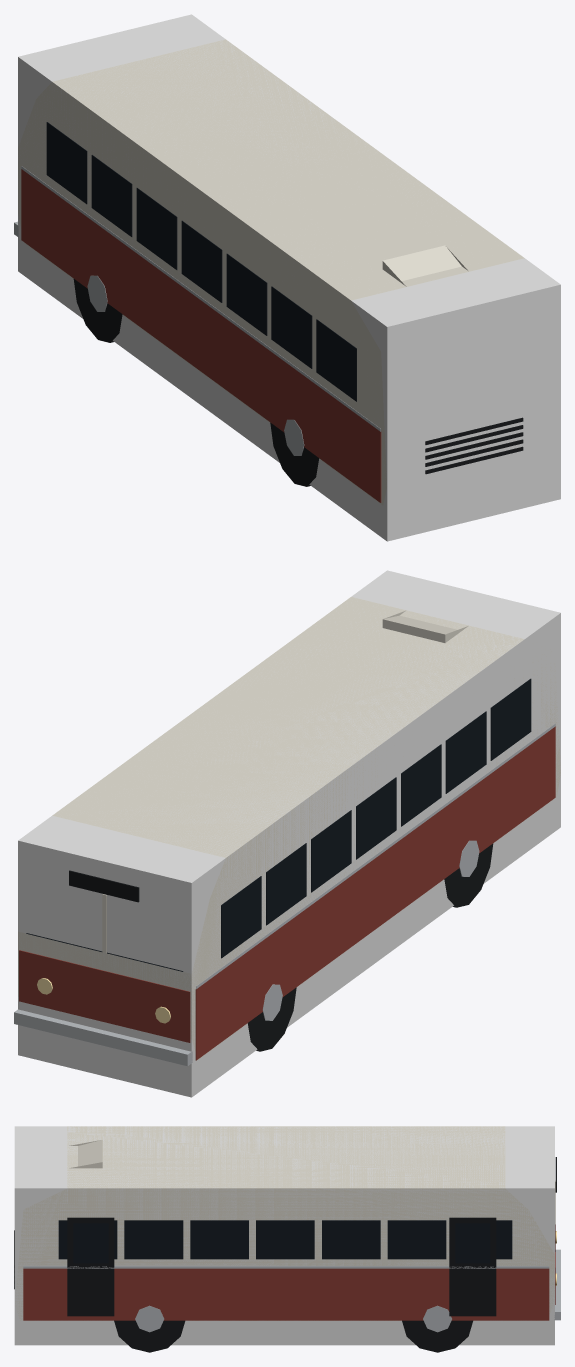
File: bus.glb
The picture shows the model from 3 angles, top to bottom: view 1: azimuth 30°, elevation 25°; view 2: azimuth 150°, elevation 25°; view 3: azimuth 270°, elevation 25°; orthographic projection. The views are drawn at different scales.
Parts seen in each view (by area): view 1: 01_#e0dcd0_r320, solid, 02_paint0_noshadow_r320, 04_#1a2026_noshadow_r320, 00_#1e2022_noshadow_r320, 03_#b8bcc0_noshadow_r110; view 2: solid, 01_#e0dcd0_r320, 02_paint0_noshadow_r320, 04_#1a2026_noshadow_r320, 03_#b8bcc0_noshadow_r110, 00_#1e2022_noshadow_r320; view 3: solid, 01_#e0dcd0_r320, 02_paint0_noshadow_r320, 04_#1a2026_noshadow_r320, 00_#1e2022_noshadow_r320, 03_#b8bcc0_noshadow_r110.
Boxes of the visible parts, x1,y1,x2,y2 form: 01_#e0dcd0_r320: (18,39,524,505); solid: (18,14,560,541); 02_paint0_noshadow_r320: (21,169,381,502); 04_#1a2026_noshadow_r320: (46,122,356,401); 00_#1e2022_noshadow_r320: (73,279,523,486); 03_#b8bcc0_noshadow_r110: (14,166,380,455); solid: (18,570,560,1097); 01_#e0dcd0_r320: (18,597,560,1059); 02_paint0_noshadow_r320: (19,726,555,1060); 04_#1a2026_noshadow_r320: (26,678,531,971); 03_#b8bcc0_noshadow_r110: (14,723,555,1066); 00_#1e2022_noshadow_r320: (69,843,493,1051); solid: (14,1126,554,1345); 01_#e0dcd0_r320: (15,1126,555,1321); 02_paint0_noshadow_r320: (23,1225,555,1320); 04_#1a2026_noshadow_r320: (58,1220,555,1263); 00_#1e2022_noshadow_r320: (14,1157,556,1352); 03_#b8bcc0_noshadow_r110: (23,1249,560,1332).
Bounding box in the file's own units: 2.53 × 3.2 × 9.31.
